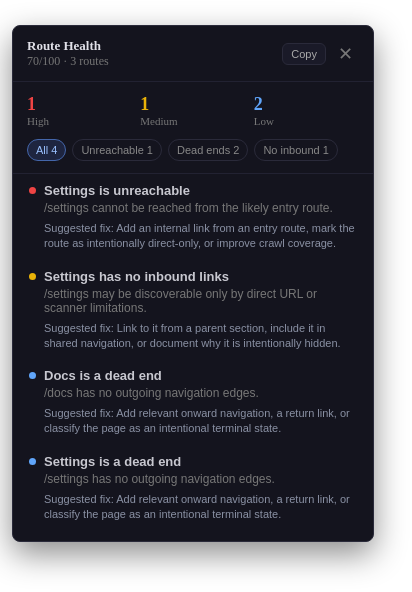
Test: RouteHealthPanel › renders issue filters and filters the issue list
Check: the text "Route Health" is shown, box x1=27 y1=38 x2=109 y2=54
Check: the text "Settings is unreachable" is shown, box x1=44 y1=183 x2=190 y2=198
Click the button "Dead ends 2". click: x=208, y=150
box: x1=168 y1=139 x2=248 y2=161
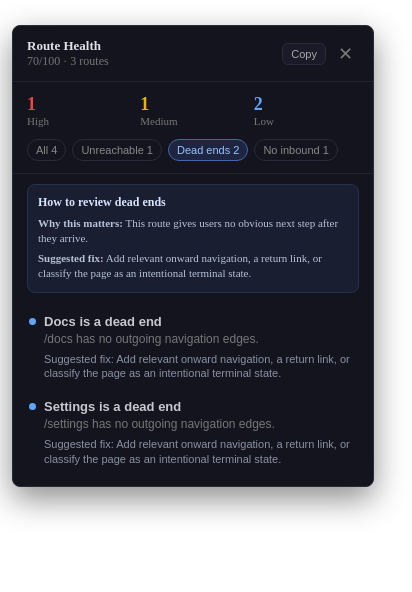
Check: the button "Settings is unreachable" is gone
Check: the text "How to review dead ends" is shown, box x1=38 y1=195 x2=166 y2=209
Check: the text "This route gives users no obvious next step" is shown, box x1=38 y1=217 x2=338 y2=244
